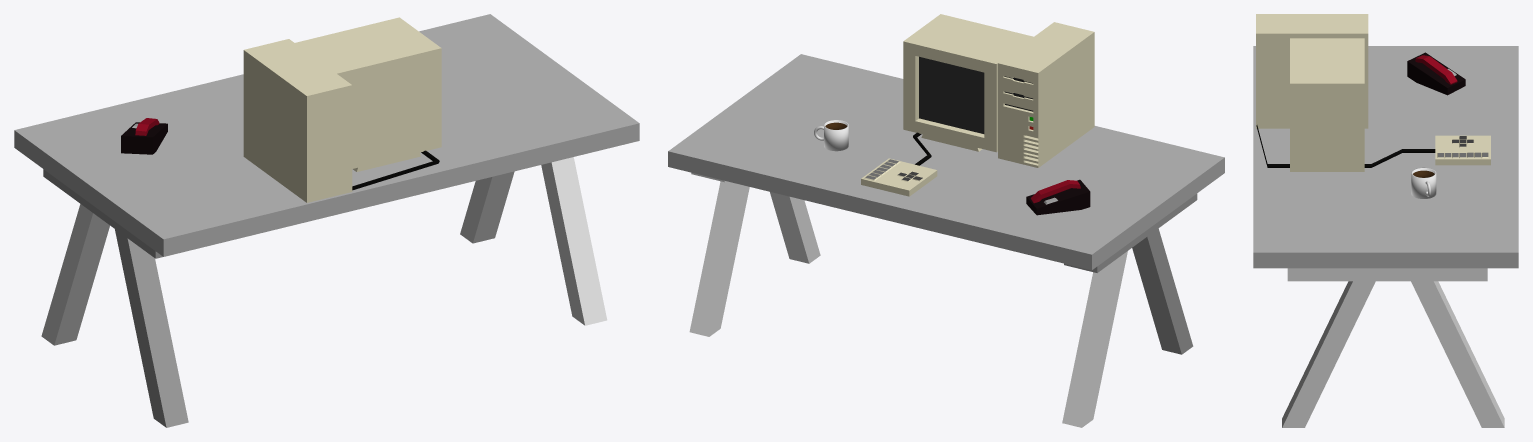
File: desk.fbx
The picture shows the model from 3 angles, left to right: view 1: azimuth 30°, elevation 25°; view 2: azimuth 150°, elevation 25°; view 3: azimuth 270°, elevation 25°; orthographic projection. The views are drawn at different scales.
Parts seen in each view (by area): view 1: Cube, Cube.004, Cube.003, Cube.001, Cube.002, Cube.006; view 2: Cube, Cube.003, Cube.004, Cube.001, Cube.002, Cube.005, Cube.006, Cylinder.001; view 3: Cube, Cube.002, Cube.003, Cube.004, Cube.005, Cube.006, Cylinder.001, Cylinder.
Boxes of the visible parts, x1=… form: Cube: x1=14, y1=14, x2=639, y2=256; Cube.004: x1=243, y1=39, x2=352, y2=202; Cube.003: x1=295, y1=17, x2=441, y2=171; Cube.001: x1=41, y1=169, x2=188, y2=427; Cube.002: x1=460, y1=157, x2=607, y2=325; Cube.006: x1=121, y1=118, x2=167, y2=154; Cube: x1=668, y1=54, x2=1224, y2=270; Cube.003: x1=903, y1=14, x2=1033, y2=152; Cube.004: x1=998, y1=22, x2=1094, y2=167; Cube.001: x1=1062, y1=193, x2=1197, y2=427; Cube.002: x1=689, y1=172, x2=820, y2=336; Cube.005: x1=861, y1=158, x2=937, y2=196; Cube.006: x1=1026, y1=179, x2=1090, y2=215; Cylinder.001: x1=814, y1=120, x2=848, y2=151; Cube: x1=1253, y1=46, x2=1518, y2=268; Cube.002: x1=1282, y1=268, x2=1504, y2=427; Cube.003: x1=1290, y1=38, x2=1364, y2=171; Cube.004: x1=1256, y1=14, x2=1368, y2=128; Cube.005: x1=1435, y1=135, x2=1490, y2=165; Cube.006: x1=1407, y1=52, x2=1465, y2=95; Cylinder.001: x1=1411, y1=167, x2=1436, y2=198; Cylinder: x1=1256, y1=125, x2=1435, y2=167.
Size of the model in its own units: 1750 by 1096 by 951.
